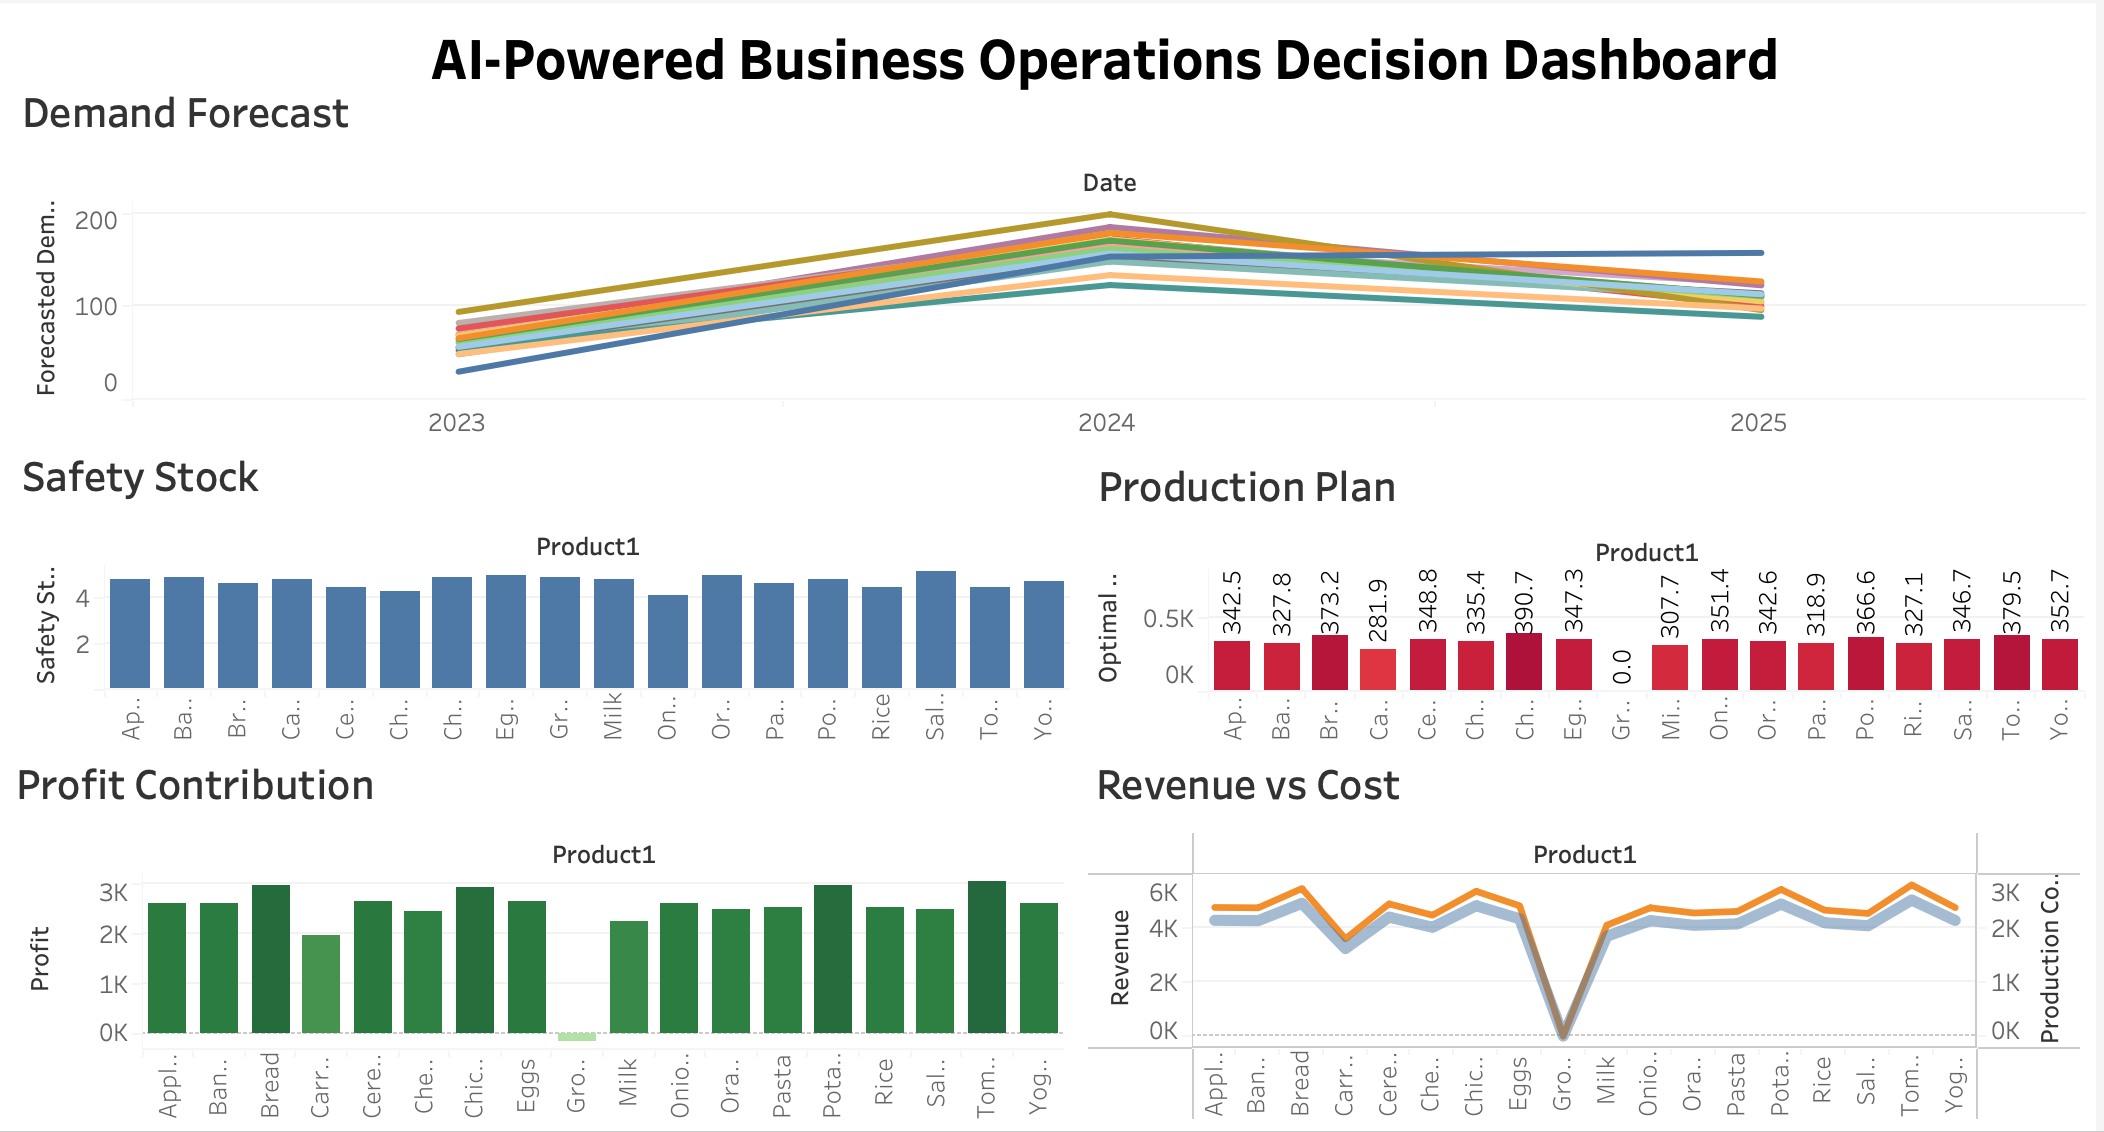

The page's visual inventory and layout, read from the dashboard file:
{"tool":"tableau","page":{"name":"AI-Powered Business Operations Decision Dashboard","canvas":[1000,1000],"units":"permille","ordinal":0},"visuals":[{"type":"text","box":[204.8,13.5,660,67.3]},{"type":"worksheet","title":"Demand Forecast","mark":"Automatic","rows":["Forecasted_Demand"],"cols":["Date"],"box":[8.6,64.3,986.7,324.4]},{"type":"worksheet","title":"Safety Stock","mark":"Bar","rows":["Safety_Stock"],"cols":["Product"],"box":[8.6,387.1,502.9,272.1]},{"type":"worksheet","title":"Production Plan","mark":"Automatic","rows":["Optimal_Production"],"cols":["Product"],"box":[521,394.6,474.3,263.1]},{"type":"worksheet","title":"Profit Contribution","mark":"Automatic","rows":["Profit"],"cols":["Product"],"box":[5.7,659.2,502.9,333.3]},{"type":"worksheet","title":"Revenue vs Cost","mark":"Line","rows":["Revenue","Production_Cost"],"cols":["Product"],"box":[520,659.2,473.3,333.3]}]}

Visuals, with their boxes on the dashboard's canvas, which has no fixed pixel size, in thousandths of its width and height (x1, y1, x2, y2). These are canvas units, not pixel positions in the 2104x1132 screenshot, which may show the page scaled, cropped or inside an application window:
text: l=205, t=14, r=865, b=81
"Demand Forecast" worksheet: l=9, t=64, r=995, b=389
"Safety Stock" worksheet (Bar marks): l=9, t=387, r=512, b=659
"Production Plan" worksheet: l=521, t=395, r=995, b=658
"Profit Contribution" worksheet: l=6, t=659, r=509, b=992
"Revenue vs Cost" worksheet (Line marks): l=520, t=659, r=993, b=992
